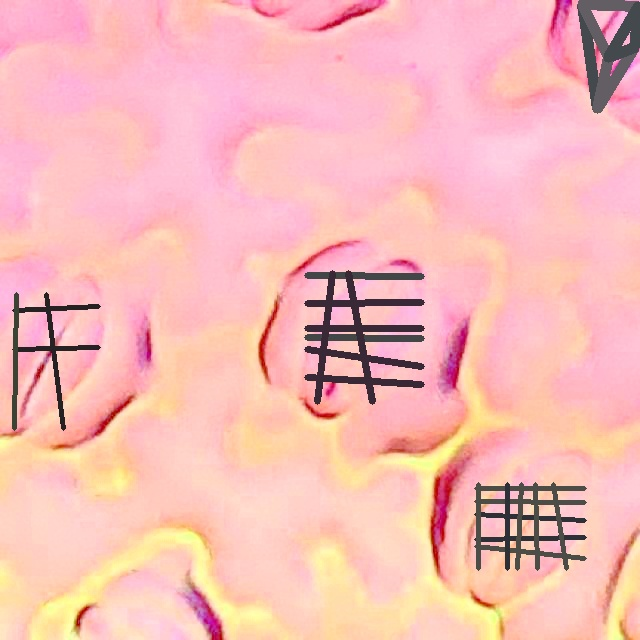close: (304, 270, 424, 404), (12, 293, 100, 430), (474, 482, 586, 570)
open: (578, 2, 640, 112)
